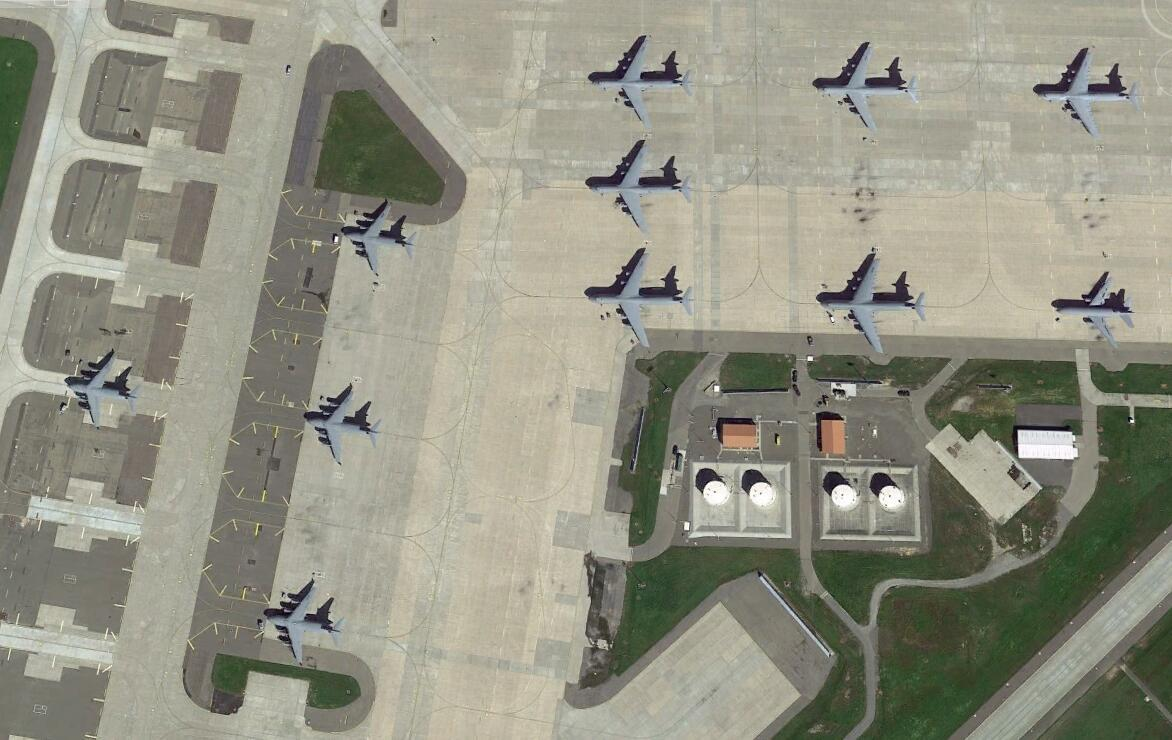A18: (1055, 273, 1136, 350)
A3: (261, 580, 346, 666), (304, 386, 381, 464), (63, 350, 140, 428), (343, 201, 418, 274)
A4: (816, 255, 926, 355), (586, 251, 691, 348), (584, 139, 693, 231), (588, 34, 694, 124), (811, 44, 923, 129), (1039, 44, 1139, 135)
